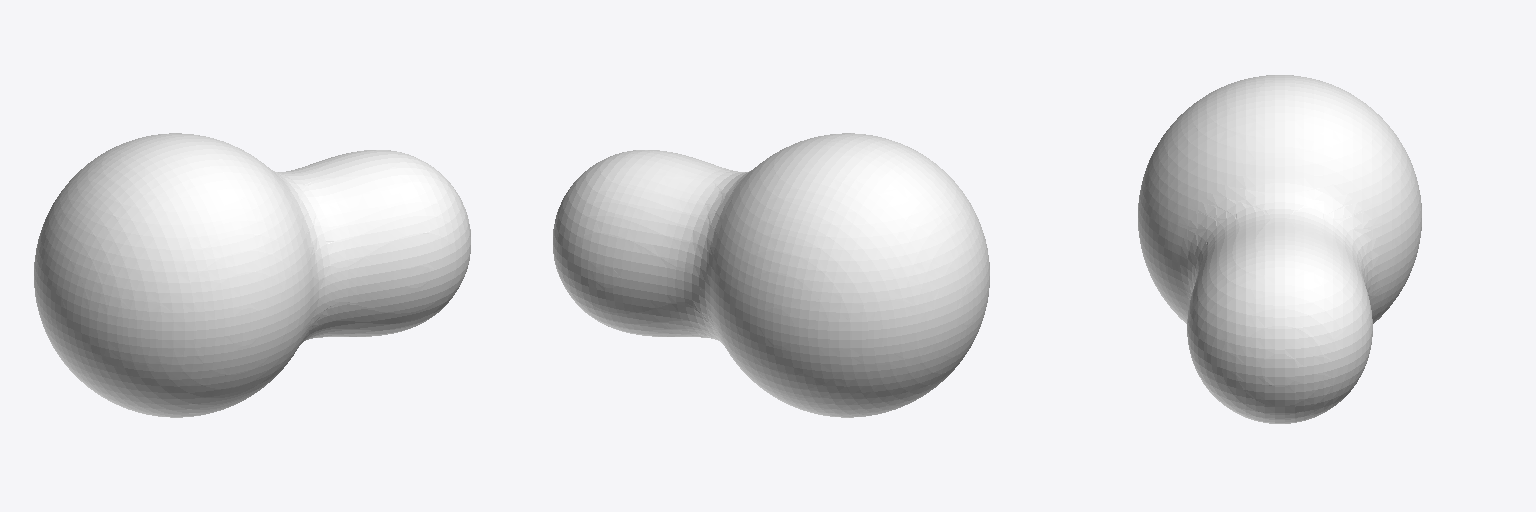
The model's file is HF_eelectronegatividad.obj.
The picture shows the model from 3 angles: view 1: azimuth 30°, elevation 25°; view 2: azimuth 150°, elevation 25°; view 3: azimuth 270°, elevation 25°; orthographic projection.
Parts seen in each view (by area): view 1: Mball.002_Mesh; view 2: Mball.002_Mesh; view 3: Mball.002_Mesh.
Boxes of the visible parts, x1=… form: Mball.002_Mesh: x1=34, y1=133, x2=470, y2=417; Mball.002_Mesh: x1=553, y1=133, x2=989, y2=417; Mball.002_Mesh: x1=1138, y1=75, x2=1421, y2=423.
Bounding box in the file's own units: 18.38 × 11.14 × 11.14.